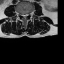CCS_stenosis: (24, 12, 25, 21)
LFS_stenosis: (27, 11, 29, 17)
LLS_normal: (25, 11, 27, 19)
RFS_stenosis: (20, 11, 22, 17)
RLS_normal: (22, 12, 24, 19)
